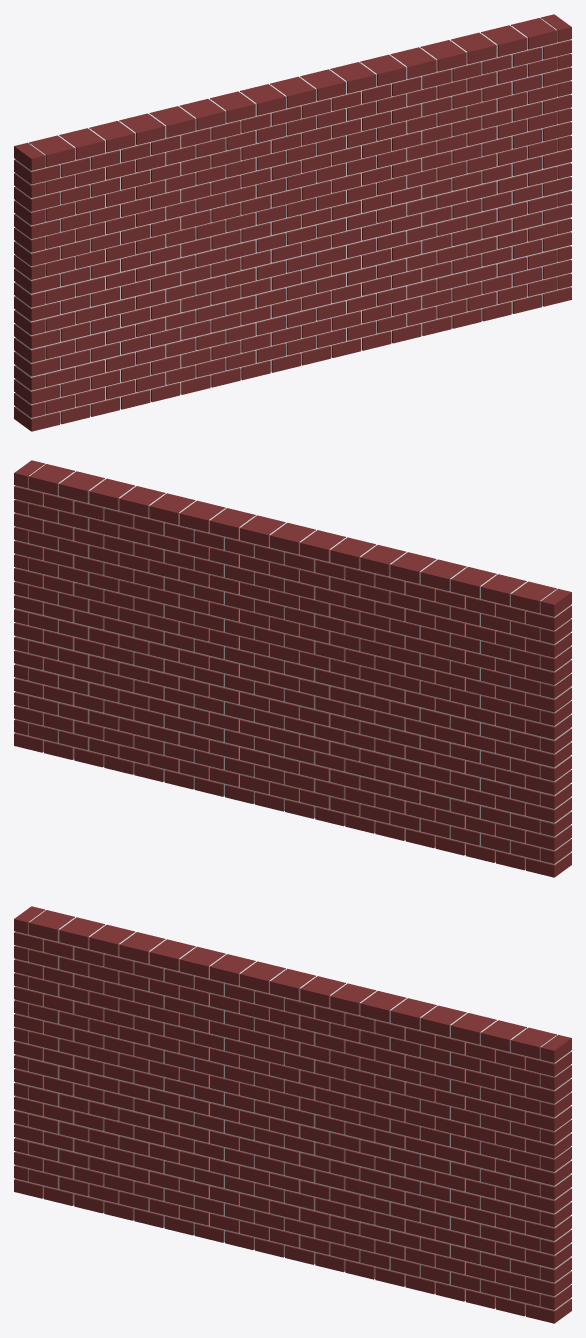
File: p-ladrillo.glb
The picture shows the model from 3 angles, top to bottom: view 1: azimuth 30°, elevation 25°; view 2: azimuth 150°, elevation 25°; view 3: azimuth 330°, elevation 25°; orthographic projection.
Visible parts, largest first — view 1: Box20549, Box20535, Box20548, Box20519, Box20532, Box20538, Box20545, Box20546, Box20520, Box20541, Box20542, Box20533 (+17 smaller); view 2: Box20549, Box20535, Box20548, Box20519, Box20532, Box20538, Box20545, Box20546, Box20520, Box20541, Box20542, Box20533 (+17 smaller); view 3: Box20549, Box20533, Box20536, Box20537, Box20542, Box20534, Box20547, Box20519, Box20538, Box20545, Box20548, Box20520 (+17 smaller).
Boxes of the visible parts, x1,y1,x2,y2 form: Box20549: [15, 18, 570, 423]; Box20535: [300, 69, 345, 100]; Box20548: [210, 91, 255, 122]; Box20519: [420, 40, 466, 71]; Box20532: [511, 18, 556, 49]; Box20538: [179, 99, 225, 130]; Box20545: [390, 47, 436, 78]; Box20546: [89, 121, 135, 152]; Box20520: [59, 128, 104, 159]; Box20541: [481, 25, 526, 56]; Box20542: [451, 32, 496, 64]; Box20533: [119, 113, 165, 144]; Box20549: [15, 464, 570, 869]; Box20535: [240, 515, 285, 546]; Box20548: [330, 537, 375, 568]; Box20519: [119, 486, 165, 517]; Box20532: [29, 464, 74, 495]; Box20538: [360, 545, 406, 576]; Box20545: [149, 493, 195, 524]; Box20546: [450, 567, 496, 598]; Box20520: [481, 574, 526, 605]; Box20541: [59, 471, 104, 502]; Box20542: [89, 478, 134, 510]; Box20533: [420, 559, 466, 590]; Box20549: [15, 910, 570, 1315]; Box20533: [119, 932, 165, 963]; Box20536: [330, 983, 376, 1014]; Box20537: [240, 961, 285, 992]; Box20542: [451, 1013, 496, 1044]; Box20534: [29, 910, 74, 941]; Box20547: [149, 939, 195, 970]; Box20519: [420, 1005, 466, 1036]; Box20538: [179, 946, 225, 978]; Box20545: [390, 998, 436, 1029]; Box20548: [210, 954, 255, 985]; Box20520: [59, 917, 104, 948].
Bounding box in the file's own units: 9831 × 4742 × 552.
